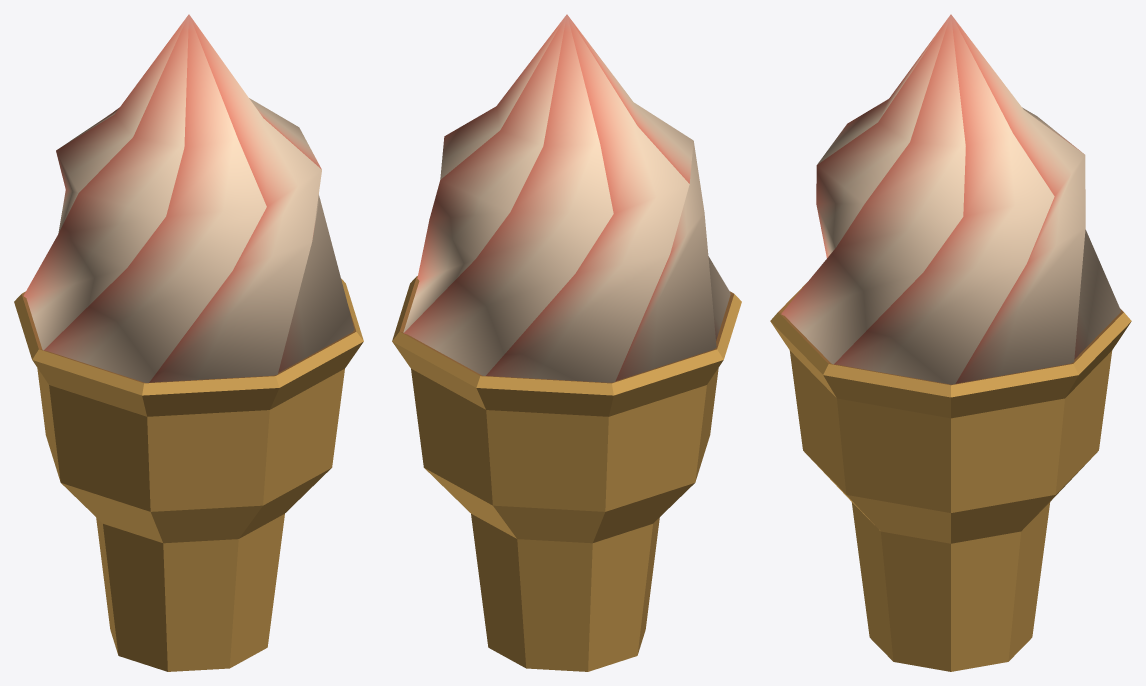
File: Iicecream.fbx
3 renders of one model, left to right at view 1: azimuth 30°, elevation 25°; view 2: azimuth 150°, elevation 25°; view 3: azimuth 270°, elevation 25°, orthographic.
Parts seen in each view (by area): view 1: Iicecream; view 2: Iicecream; view 3: Iicecream.
Part boxes in pixels (box(x1,y1,x2,y2)): Iicecream: box(14, 14, 363, 671); Iicecream: box(392, 14, 741, 671); Iicecream: box(770, 14, 1131, 671).
Bounding box in the file's own units: 44.75 × 85.14 × 44.75.
Materials: 1 (1 with a texture image).
